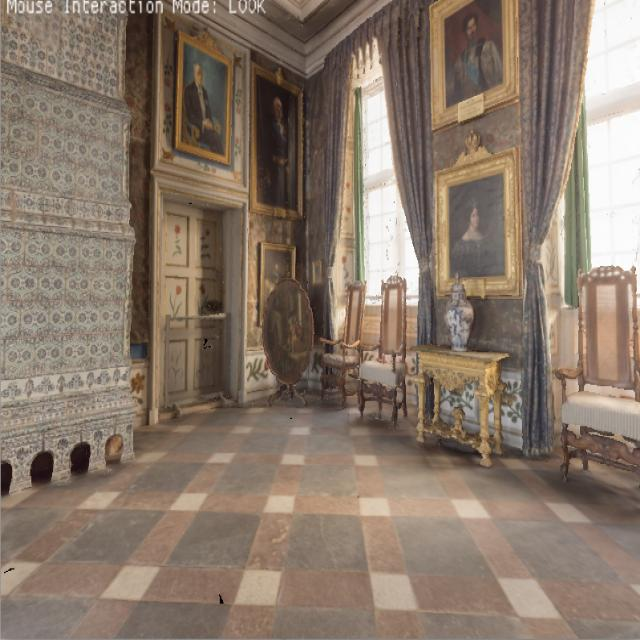chair: (562, 256, 640, 519), (356, 273, 413, 432), (320, 276, 366, 398)
door: (163, 209, 235, 404)
door-frame: (149, 172, 253, 424)
table: (401, 328, 519, 467)
